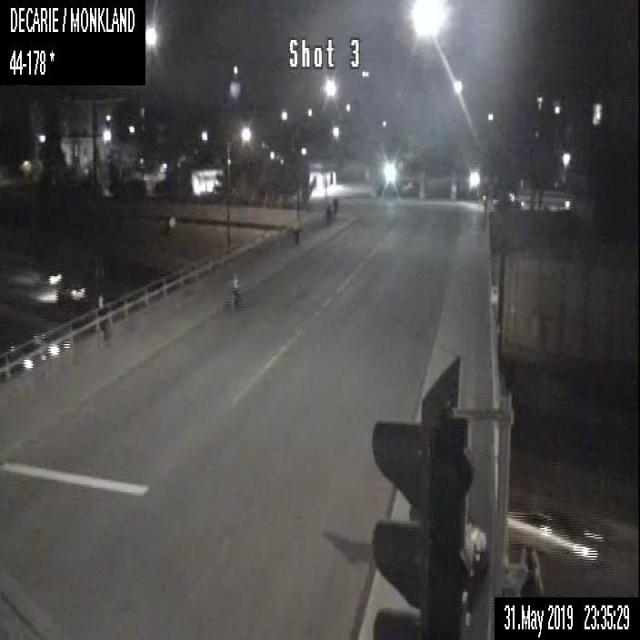pedestrian: (462, 519, 485, 628), (232, 270, 240, 306), (324, 197, 330, 224), (332, 197, 337, 220)
vehicle: (507, 505, 601, 567), (57, 279, 88, 307), (34, 267, 62, 286)
